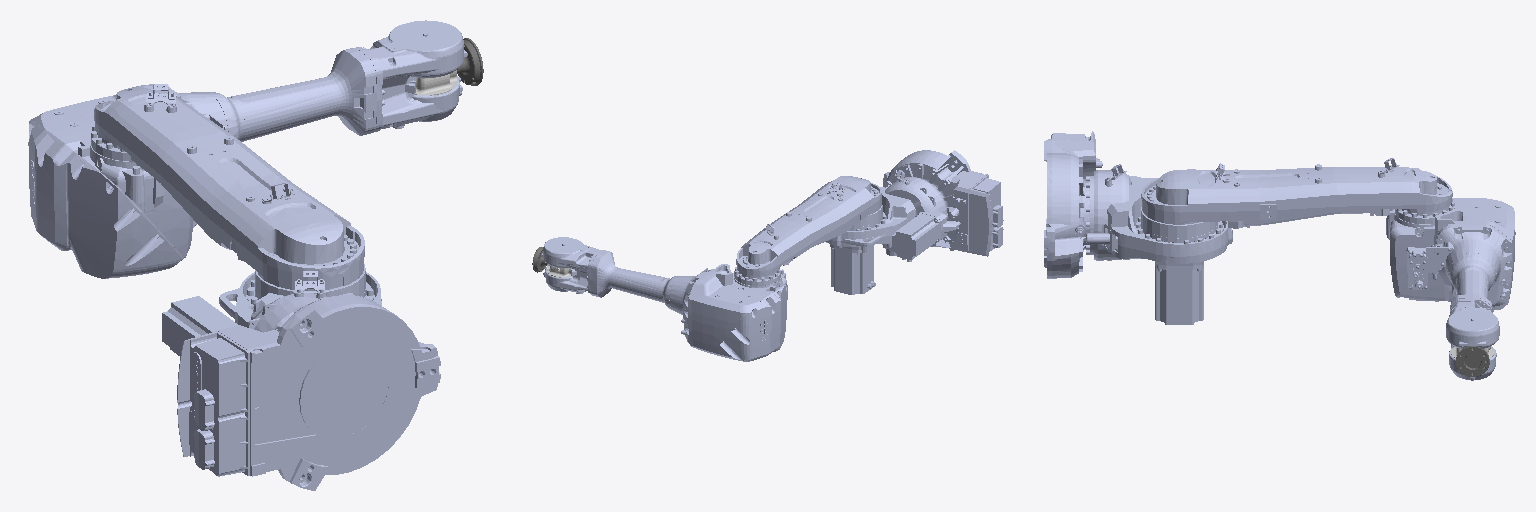
robot.urdf — v2_45_205:
<?xml version="1.0" encoding="utf-8"?>
<!-- This URDF was automatically created by SolidWorks to URDF Exporter! Originally created by [author] ([email redacted]) 
     Commit Version: 1.6.0-4-g7f85cfe  Build Version: 1.6.7995.38578
     For more information, please see http://wiki.ros.org/sw_urdf_exporter -->
<robot
  name="v2_45_205">
  <link
    name="base_link">
    <inertial>
      <origin
        xyz="-0.0911936804230504 -0.015795930217286 -0.000363213425636721"
        rpy="0 0 0" />
      <mass
        value="30.281918317397" />
      <inertia
        ixx="0.42324246542711"
        ixy="0.0579870207146707"
        ixz="-0.00392164389954818"
        iyy="1.16077161635055"
        iyz="-0.000145295296230969"
        izz="0.859475895335221" />
    </inertial>
    <visual>
      <origin
        xyz="0 0 0"
        rpy="0 0 0" />
      <geometry>
        <mesh
          filename="package://v2_45_205/meshes/base_link.STL" />
      </geometry>
      <material
        name="">
        <color
          rgba="0.792156862745098 0.819607843137255 0.933333333333333 1" />
      </material>
    </visual>
    <collision>
      <origin
        xyz="0 0 0"
        rpy="0 0 0" />
      <geometry>
        <mesh
          filename="package://v2_45_205/meshes/base_link.STL" />
      </geometry>
    </collision>
  </link>
  <link
    name="Link1">
    <inertial>
      <origin
        xyz="0.0770381485575038 0.0246900831409264 0.205198349954785"
        rpy="0 0 0" />
      <mass
        value="42.413586140522" />
      <inertia
        ixx="1.11246064379119"
        ixy="-0.0968850207880165"
        ixz="-0.299305248648567"
        iyy="1.44945414387733"
        iyz="-0.10346326928728"
        izz="1.15999278824101" />
    </inertial>
    <visual>
      <origin
        xyz="0 0 0"
        rpy="0 0 0" />
      <geometry>
        <mesh
          filename="package://v2_45_205/meshes/Link1.STL" />
      </geometry>
      <material
        name="">
        <color
          rgba="0.792156862745098 0.819607843137255 0.933333333333333 1" />
      </material>
    </visual>
    <collision>
      <origin
        xyz="0 0 0"
        rpy="0 0 0" />
      <geometry>
        <mesh
          filename="package://v2_45_205/meshes/Link1.STL" />
      </geometry>
    </collision>
  </link>
  <joint
    name="joint1"
    type="revolute">
    <origin
      xyz="0 0.09674 0"
      rpy="-1.5708 0 0" />
    <parent
      link="base_link" />
    <child
      link="Link1" />
    <axis
      xyz="0 0 -1" />
    <limit
      lower="0"
      upper="0"
      effort="0"
      velocity="0" />
  </joint>
  <link
    name="Link2">
    <inertial>
      <origin
        xyz="0.396780446316778 -8.08217669429068E-05 0.0115757357456233"
        rpy="0 0 0" />
      <mass
        value="28.0812020702978" />
      <inertia
        ixx="0.160917567581654"
        ixy="-0.000287274528020353"
        ixz="-0.0736510421474145"
        iyy="2.16979579779629"
        iyz="-2.96916913913037E-05"
        izz="2.24831856069478" />
    </inertial>
    <visual>
      <origin
        xyz="0 0 0"
        rpy="0 0 0" />
      <geometry>
        <mesh
          filename="package://v2_45_205/meshes/Link2.STL" />
      </geometry>
      <material
        name="">
        <color
          rgba="0.792156862745098 0.819607843137255 0.933333333333333 1" />
      </material>
    </visual>
    <collision>
      <origin
        xyz="0 0 0"
        rpy="0 0 0" />
      <geometry>
        <mesh
          filename="package://v2_45_205/meshes/Link2.STL" />
      </geometry>
    </collision>
  </link>
  <joint
    name="joint2"
    type="revolute">
    <origin
      xyz="0.175 -0.159 0.3"
      rpy="1.5708 -1.5708 0" />
    <parent
      link="Link1" />
    <child
      link="Link2" />
    <axis
      xyz="0 0 -1" />
    <limit
      lower="0"
      upper="0"
      effort="0"
      velocity="0" />
  </joint>
  <link
    name="Link3">
    <inertial>
      <origin
        xyz="0.0401929559947087 -0.119032651172442 0.14560240729624"
        rpy="0 0 0" />
      <mass
        value="51.1574400583135" />
      <inertia
        ixx="1.13312274999359"
        ixy="0.117399878640995"
        ixz="0.0735199644590832"
        iyy="1.1398534844599"
        iyz="0.0140858187944216"
        izz="1.38701595725538" />
    </inertial>
    <visual>
      <origin
        xyz="0 0 0"
        rpy="0 0 0" />
      <geometry>
        <mesh
          filename="package://v2_45_205/meshes/Link3.STL" />
      </geometry>
      <material
        name="">
        <color
          rgba="0.792156862745098 0.819607843137255 0.933333333333333 1" />
      </material>
    </visual>
    <collision>
      <origin
        xyz="0 0 0"
        rpy="0 0 0" />
      <geometry>
        <mesh
          filename="package://v2_45_205/meshes/Link3.STL" />
      </geometry>
    </collision>
  </link>
  <joint
    name="joint3"
    type="revolute">
    <origin
      xyz="0.9 0 -0.0627"
      rpy="3.1416 0 -1.5708" />
    <parent
      link="Link2" />
    <child
      link="Link3" />
    <axis
      xyz="0 0 1" />
    <limit
      lower="0"
      upper="0"
      effort="0"
      velocity="0" />
  </joint>
  <link
    name="Link4">
    <inertial>
      <origin
        xyz="-0.00284654128878503 0.00197569195469383 0.355991385385427"
        rpy="0 0 0" />
      <mass
        value="11.1138588259103" />
      <inertia
        ixx="0.479367123566076"
        ixy="-2.87661000733493E-05"
        ixz="0.00228689798322958"
        iyy="0.461732338576873"
        iyz="-0.00564745794825691"
        izz="0.0532626612081631" />
    </inertial>
    <visual>
      <origin
        xyz="0 0 0"
        rpy="0 0 0" />
      <geometry>
        <mesh
          filename="package://v2_45_205/meshes/Link4.STL" />
      </geometry>
      <material
        name="">
        <color
          rgba="0.792156862745098 0.819607843137255 0.933333333333333 1" />
      </material>
    </visual>
    <collision>
      <origin
        xyz="0 0 0"
        rpy="0 0 0" />
      <geometry>
        <mesh
          filename="package://v2_45_205/meshes/Link4.STL" />
      </geometry>
    </collision>
  </link>
  <joint
    name="joint4"
    type="revolute">
    <origin
      xyz="0.37724 -0.175 0.0963"
      rpy="-1.5708 0 -1.5708" />
    <parent
      link="Link3" />
    <child
      link="Link4" />
    <axis
      xyz="0 0 -1" />
    <limit
      lower="0"
      upper="0"
      effort="0"
      velocity="0" />
  </joint>
  <link
    name="Link5">
    <inertial>
      <origin
        xyz="-0.00105081860675926 -0.000400285625893115 -0.0327014997611218"
        rpy="0 0 0" />
      <mass
        value="1.50271034829967" />
      <inertia
        ixx="0.00302758497587675"
        ixy="1.70853948004654E-05"
        ixz="-7.74592149640464E-07"
        iyy="0.00333424380337437"
        iyz="5.11498038241988E-06"
        izz="0.00314069859709165" />
    </inertial>
    <visual>
      <origin
        xyz="0 0 0"
        rpy="0 0 0" />
      <geometry>
        <mesh
          filename="package://v2_45_205/meshes/Link5.STL" />
      </geometry>
      <material
        name="">
        <color
          rgba="0.843137254901961 0.843137254901961 0.843137254901961 1" />
      </material>
    </visual>
    <collision>
      <origin
        xyz="0 0 0"
        rpy="0 0 0" />
      <geometry>
        <mesh
          filename="package://v2_45_205/meshes/Link5.STL" />
      </geometry>
    </collision>
  </link>
  <joint
    name="joint5"
    type="revolute">
    <origin
      xyz="0 -0.02925 0.58276"
      rpy="1.5708 -1.5708 0" />
    <parent
      link="Link4" />
    <child
      link="Link5" />
    <axis
      xyz="0 0 -1" />
    <limit
      lower="0"
      upper="0"
      effort="0"
      velocity="0" />
  </joint>
  <link
    name="Link6">
    <inertial>
      <origin
        xyz="-0.00288165426515308 0.000289286041804671 0.0358484329208235"
        rpy="0 0 0" />
      <mass
        value="0.266083806002255" />
      <inertia
        ixx="0.000288201471994961"
        ixy="2.75556879883019E-06"
        ixz="-7.66253646112188E-06"
        iyy="0.000285555380840198"
        iyz="-5.25357947640531E-07"
        izz="0.000375935917085317" />
    </inertial>
    <visual>
      <origin
        xyz="0 0 0"
        rpy="0 0 0" />
      <geometry>
        <mesh
          filename="package://v2_45_205/meshes/Link6.STL" />
      </geometry>
      <material
        name="">
        <color
          rgba="0.501960784313725 0.501960784313725 0.501960784313725 1" />
      </material>
    </visual>
    <collision>
      <origin
        xyz="0 0 0"
        rpy="0 0 0" />
      <geometry>
        <mesh
          filename="package://v2_45_205/meshes/Link6.STL" />
      </geometry>
    </collision>
  </link>
  <joint
    name="joint6"
    type="revolute">
    <origin
      xyz="0.077381 0 -0.02925"
      rpy="-1.5708 0 -1.6549" />
    <parent
      link="Link5" />
    <child
      link="Link6" />
    <axis
      xyz="0.083966 0 -0.99647" />
    <limit
      lower="0"
      upper="0"
      effort="0"
      velocity="0" />
  </joint>
</robot>

--- Facts derived from the render (not from the file) ---
The picture shows the robot from 3 angles, left to right: view 1: azimuth 30°, elevation 25°; view 2: azimuth 150°, elevation 25°; view 3: azimuth 270°, elevation 25°; orthographic projection.
Model v2_45_205 with 7 links and 6 joints (6 revolute), rooted at base_link, posed every joint at zero.
Visible links, largest first — view 1: base_link, Link2, Link3, Link4, Link1, Link6, Link5; view 2: Link3, Link1, Link2, base_link, Link4; view 3: Link2, Link1, Link3, base_link, Link4, Link6.
Boxes of the visible links, x1,y1,x2,y2 form: base_link: (177,295,440,490); Link2: (94,84,364,290); Link3: (28,84,227,278); Link4: (206,20,467,141); Link1: (162,264,381,356); Link6: (457,38,483,85); Link5: (415,70,456,95); Link3: (670,264,787,361); Link1: (826,170,960,294); Link2: (736,176,881,276); base_link: (883,150,1003,256); Link4: (541,237,679,309); Link2: (1141,158,1452,228); Link1: (1086,164,1232,324); Link3: (1386,198,1515,311); base_link: (1044,131,1102,278); Link4: (1446,253,1499,380); Link6: (1456,346,1489,376).
Bounding box of the posed robot: 1.67 × 1.73 × 0.6312 m (x, y, z).
Meshes: 7 distinct files referenced, 7 mesh visuals loaded (7 binary STL).
